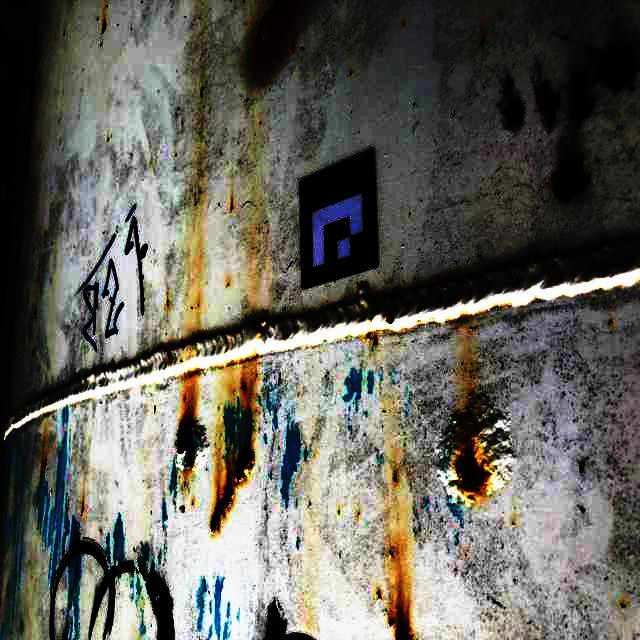Corrosion: (437, 390, 513, 506), (174, 418, 209, 471), (209, 483, 235, 534), (233, 440, 255, 484), (396, 622, 412, 640), (40, 460, 47, 478), (387, 314, 395, 324), (166, 350, 171, 362), (102, 20, 106, 34), (389, 618, 395, 627), (479, 39, 484, 47), (377, 592, 382, 599), (366, 332, 371, 339), (373, 338, 378, 345), (241, 384, 246, 391), (34, 310, 37, 320), (609, 320, 614, 326), (81, 507, 84, 516), (292, 42, 295, 50), (32, 350, 35, 356), (383, 410, 387, 414), (389, 551, 392, 556), (184, 397, 186, 401), (394, 479, 396, 483), (261, 84, 264, 86), (191, 503, 193, 505)
